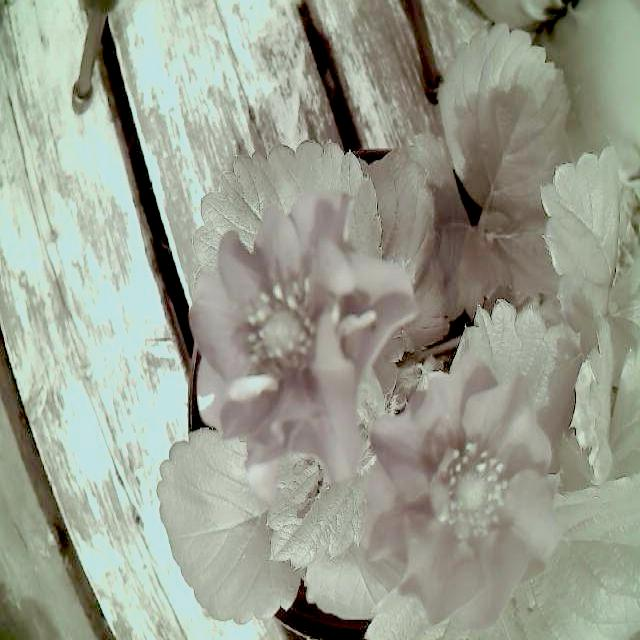flower: (190, 170, 438, 486), (346, 346, 567, 629)
